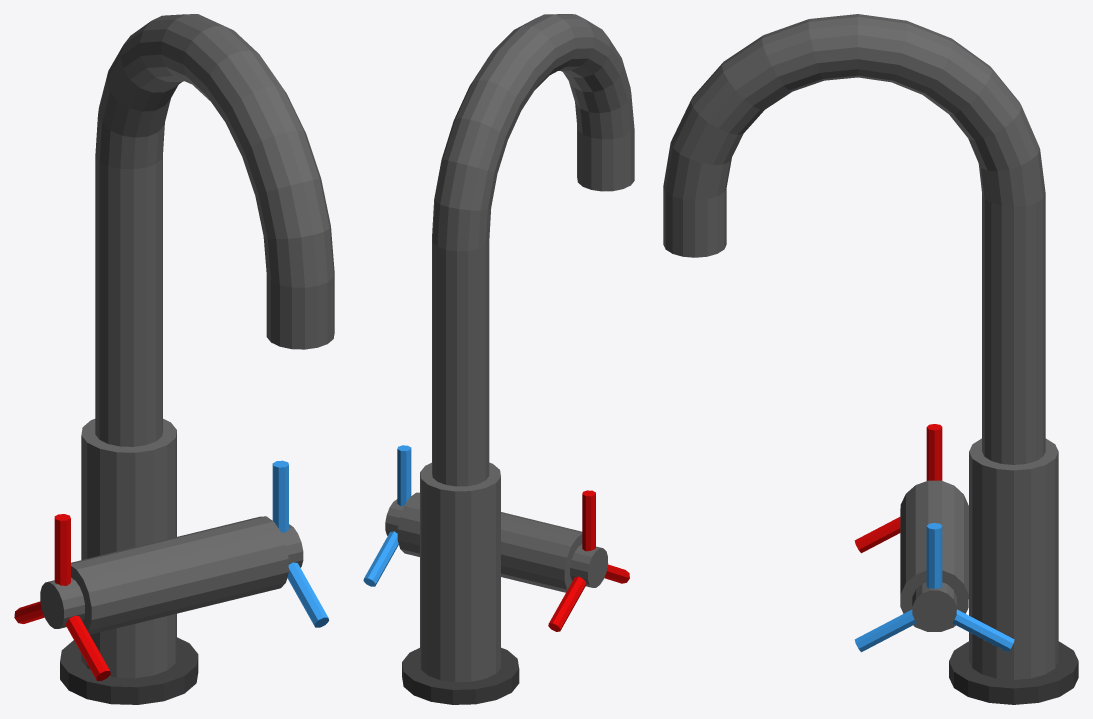
The model's file is Prop_Faucet_06.fbx.
The picture shows the model from 3 angles, left to right: view 1: azimuth 30°, elevation 25°; view 2: azimuth 150°, elevation 25°; view 3: azimuth 270°, elevation 25°; orthographic projection. The views are drawn at different scales.
Visible parts, largest first — view 1: Prop_Faucet_06; view 2: Prop_Faucet_06; view 3: Prop_Faucet_06.
Boxes of the visible parts, x1,y1,x2,y2 form: Prop_Faucet_06: [14, 14, 334, 704]; Prop_Faucet_06: [363, 14, 634, 704]; Prop_Faucet_06: [663, 14, 1078, 704].
Size of the model in its own units: 12.75 by 36.18 by 20.63.
